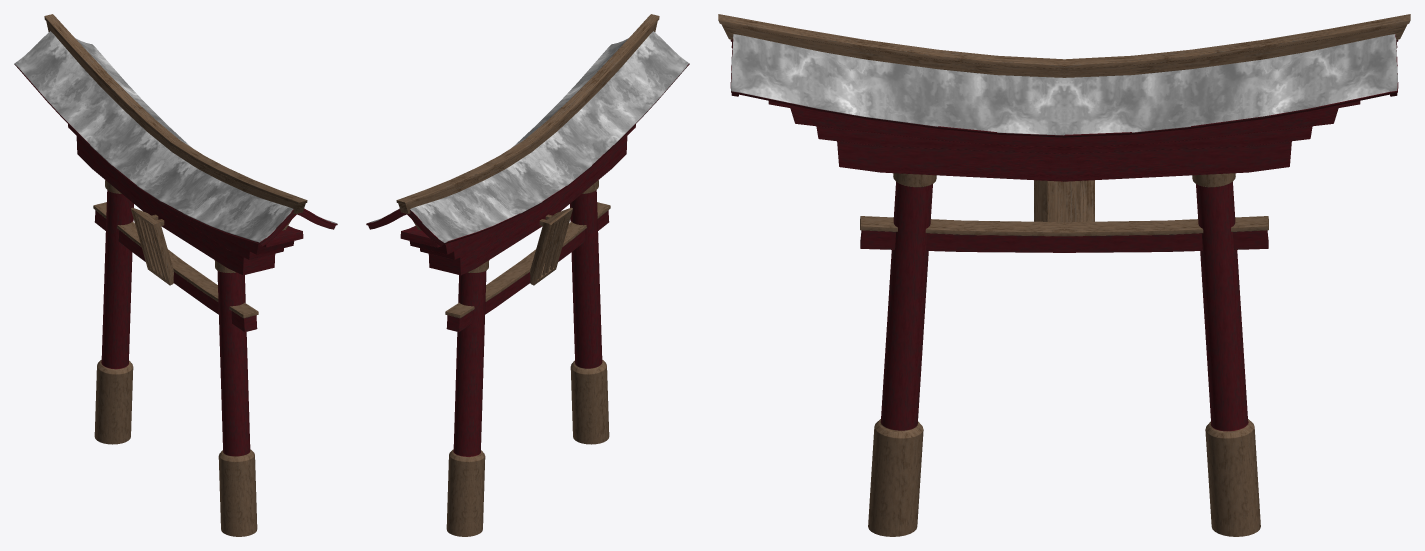
File: SM_Torii_03.fbx
3 views of the same model, side by side, from view 1: azimuth 30°, elevation 25°; view 2: azimuth 150°, elevation 25°; view 3: azimuth 270°, elevation 25° (orthographic). The views are drawn at different scales.
Visible parts, largest first — view 1: SM_Torii_03; view 2: SM_Torii_03; view 3: SM_Torii_03.
Boxes of the visible parts, box(x1,y1,x2,y2) form: SM_Torii_03: box(14, 14, 337, 536); SM_Torii_03: box(366, 14, 689, 536); SM_Torii_03: box(718, 14, 1410, 536).
Size of the model in its own units: 191 by 1073 by 871.
Materials: 3 (3 with a texture image).
